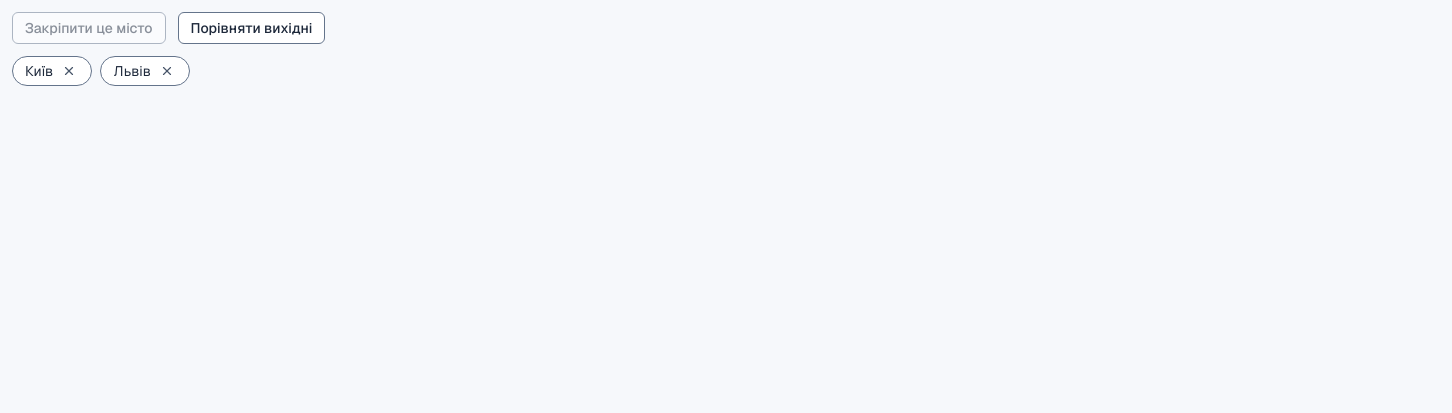
Scenario: CompareSection — table semantics + a11y (NFR-A11Y-01) › renders a real <table> with scope'd column AND row headers
Step 1. Click the switch labelled "Порівняти вихідні" → (252, 28), box [178,12,326,44]
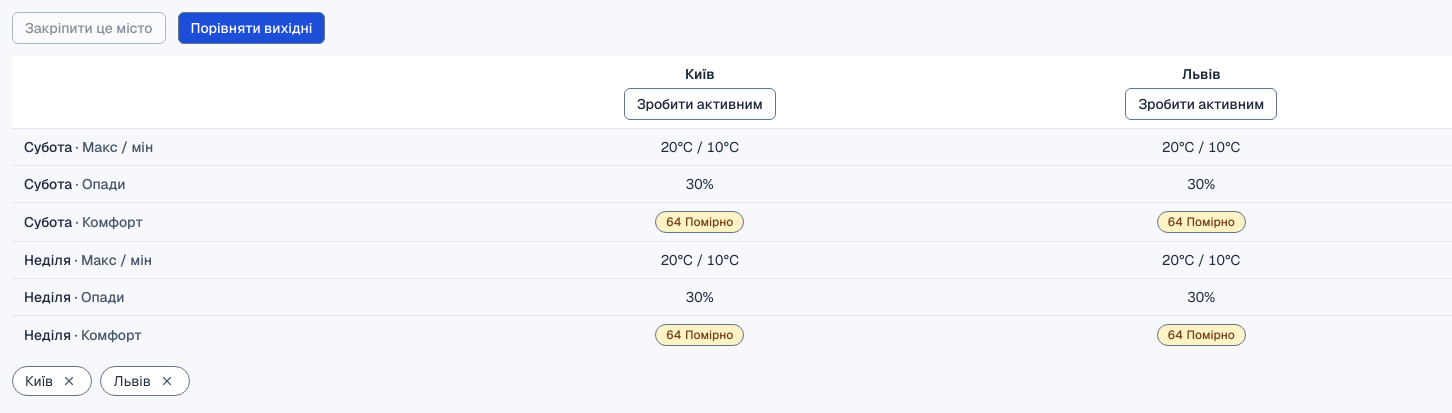
Result: the table is shown
